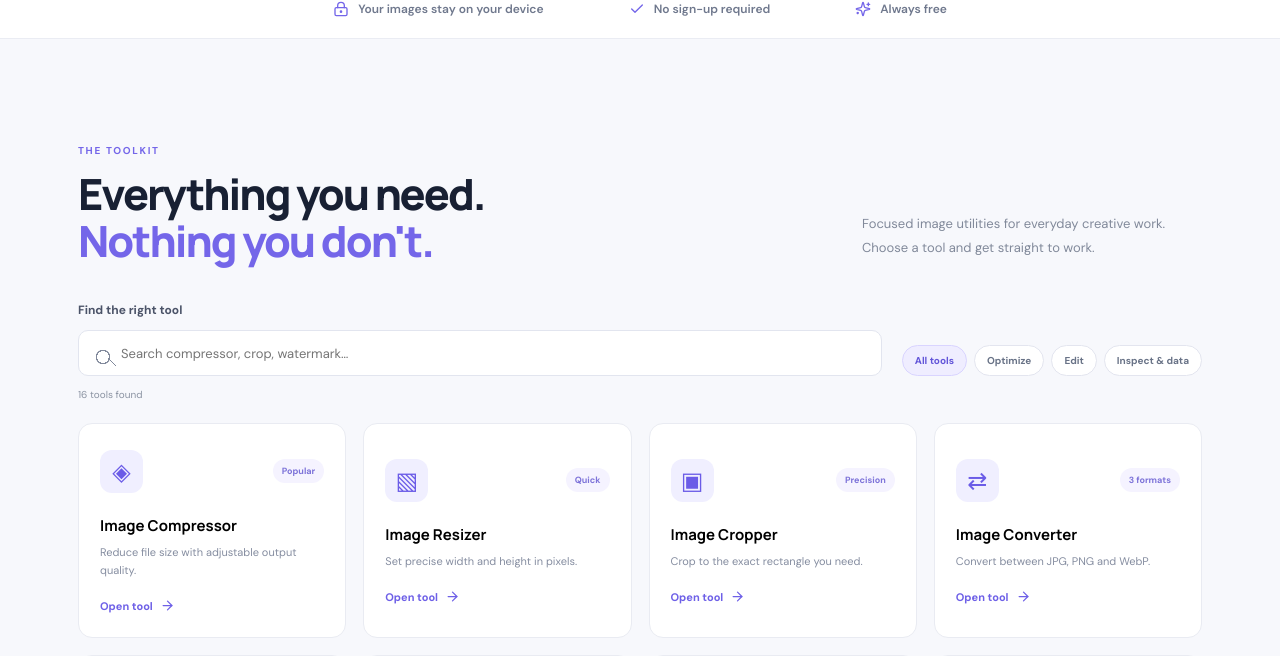
PixelTools ease-of-use workflows › filters the toolkit by category and explains empty results
(page scrolled)
Click the button "Edit" at (1074, 360), box [1051,345,1097,376]
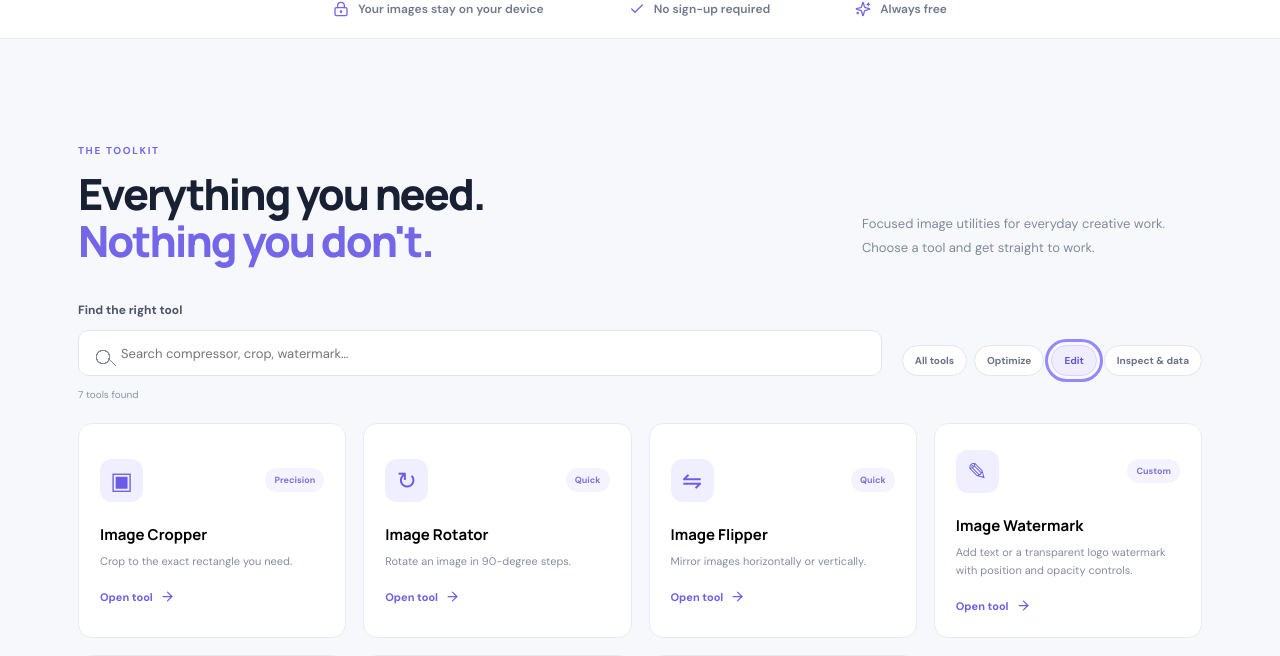
Expected: the button "Image Cropper" is shown, [78,423,346,638]
Expected: the button "Image Compressor" is gone
Type "not-a-real-tool" into the search field labelled "Find the right tool" at (480, 353), box [78,330,882,376]
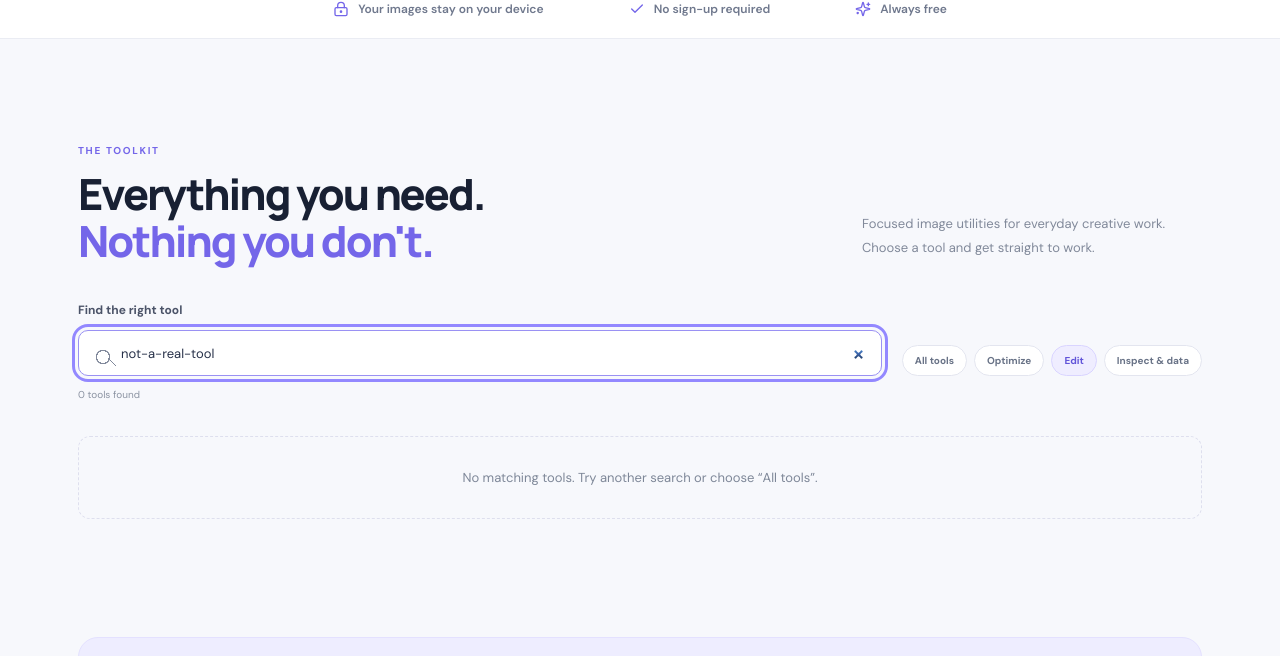
Expected: the text "No matching tools. Try another search or choose “All tools”." is shown, [78,436,1202,519]
